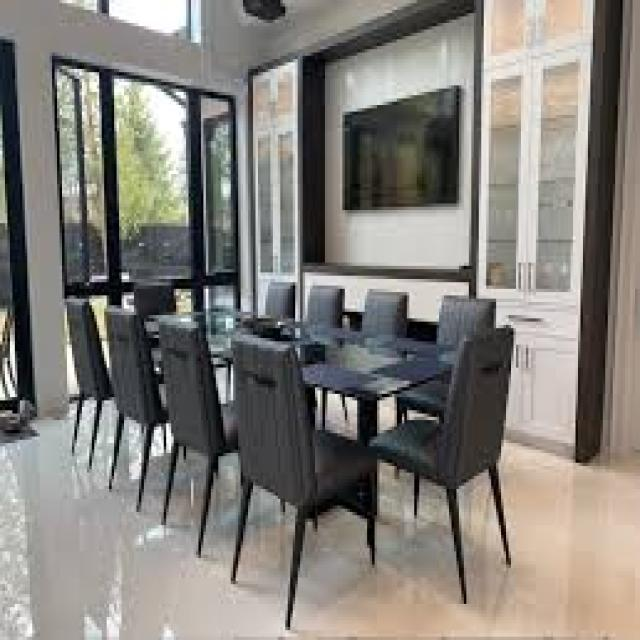chair: (363, 320, 539, 611), (220, 324, 385, 628), (221, 320, 379, 634), (152, 308, 243, 564), (390, 279, 506, 455), (60, 290, 144, 497), (103, 298, 170, 514), (339, 280, 426, 400), (294, 280, 364, 361), (114, 263, 186, 318), (251, 273, 304, 340)
